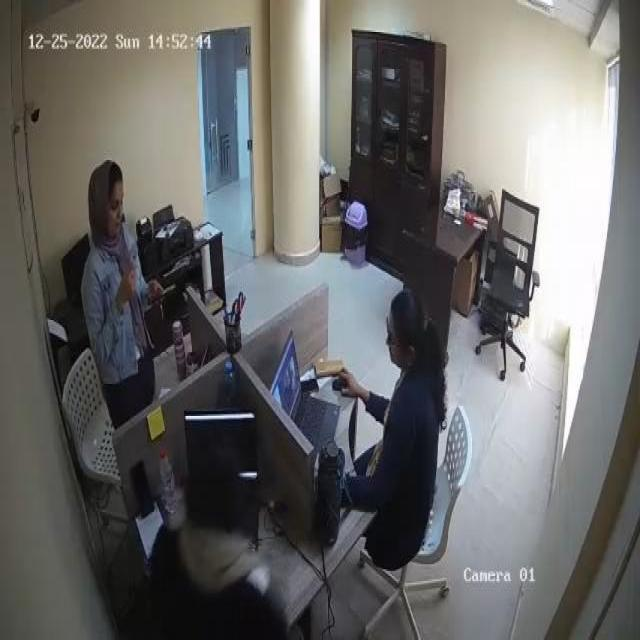bare_hand: (328, 350, 379, 409), (138, 266, 173, 320), (112, 269, 142, 328)
